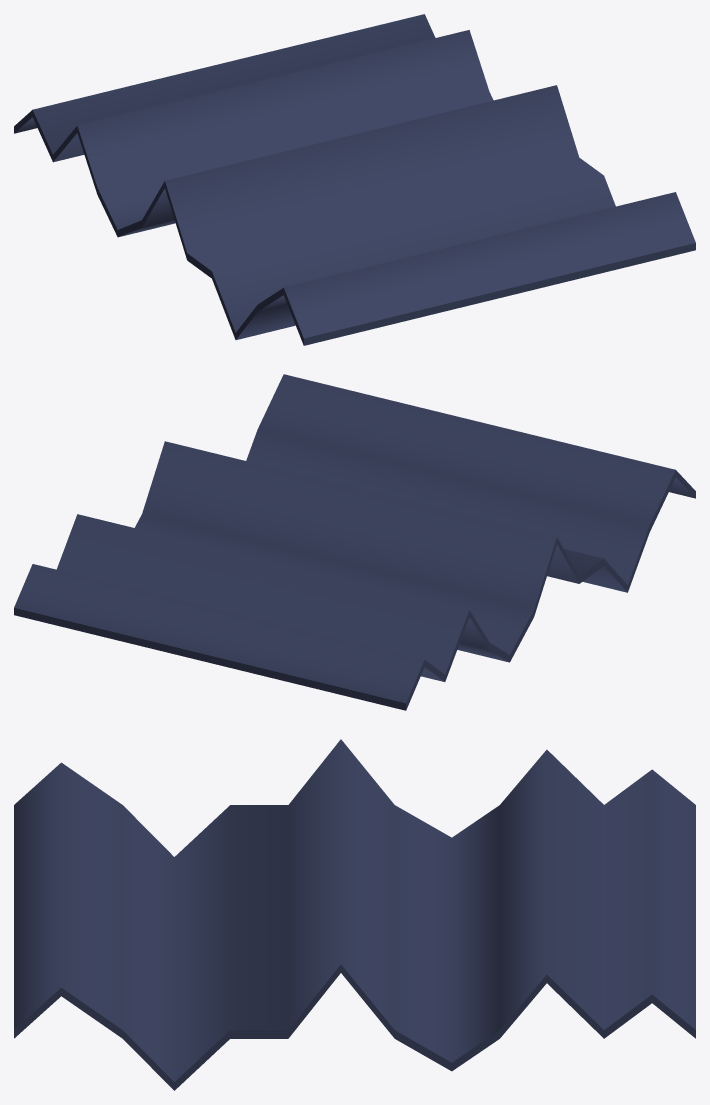
File: FBX_MAP.fbx
3 views of the same model, one above another, from view 1: azimuth 30°, elevation 25°; view 2: azimuth 150°, elevation 25°; view 3: azimuth 270°, elevation 25° (orthographic). The views are drawn at different scales.
Parts seen in each view (by area): view 1: pCube1; view 2: pCube1; view 3: pCube1.
Part boxes in pixels (x1,y1,x2,y2): pCube1: (14,14,695,345); pCube1: (14,374,695,710); pCube1: (14,739,695,1090).
Size of the model in its own units: 0.3282 by 0.0862 by 0.4202.
